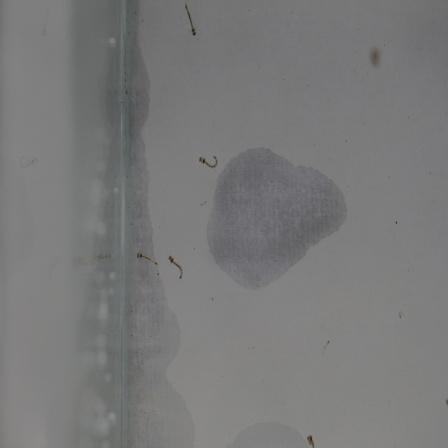Jentik-Nyamuk: (179, 0, 201, 41), (194, 147, 223, 173), (166, 250, 187, 285), (131, 248, 160, 270)
